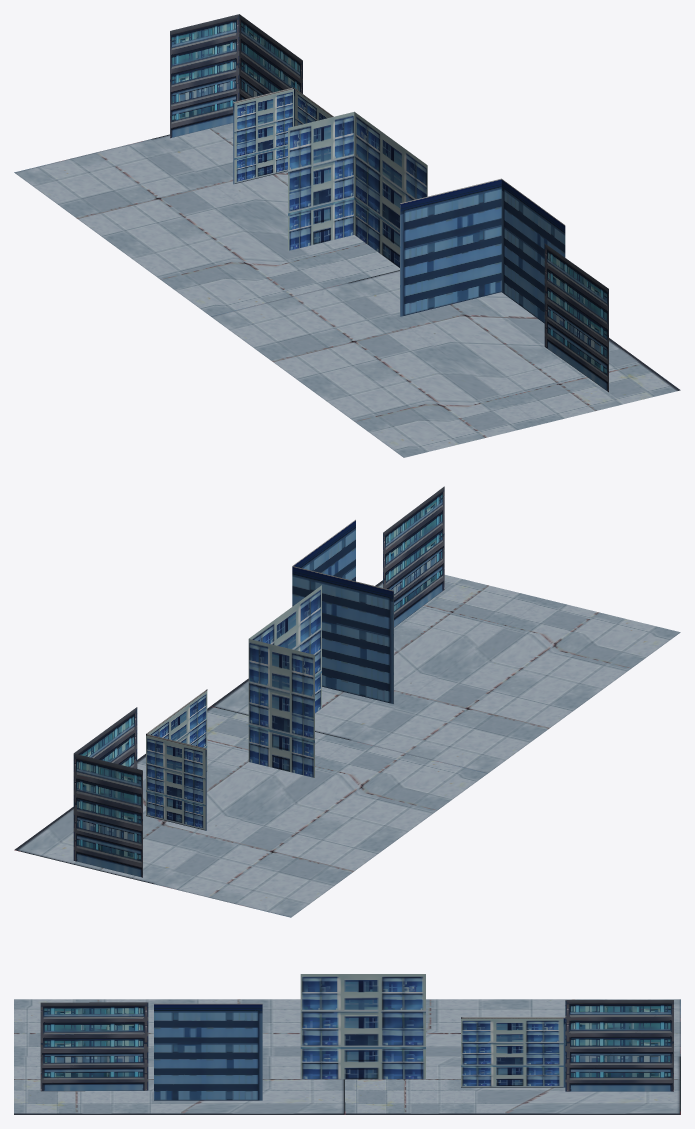
File: ny_port_far.fbx
3 renders of one model, top to bottom at view 1: azimuth 30°, elevation 25°; view 2: azimuth 150°, elevation 25°; view 3: azimuth 270°, elevation 25°, orthographic. The views are drawn at different scales.
Visible parts, largest first — view 1: ny_city_far1; view 2: ny_city_far1; view 3: ny_city_far1.
Part boxes in pixels (<box>): ny_city_far1: <box>14,14,680,457</box>; ny_city_far1: <box>14,486,680,917</box>; ny_city_far1: <box>14,974,680,1114</box>.
Size of the model in its own units: 4102 by 1778 by 10000.
